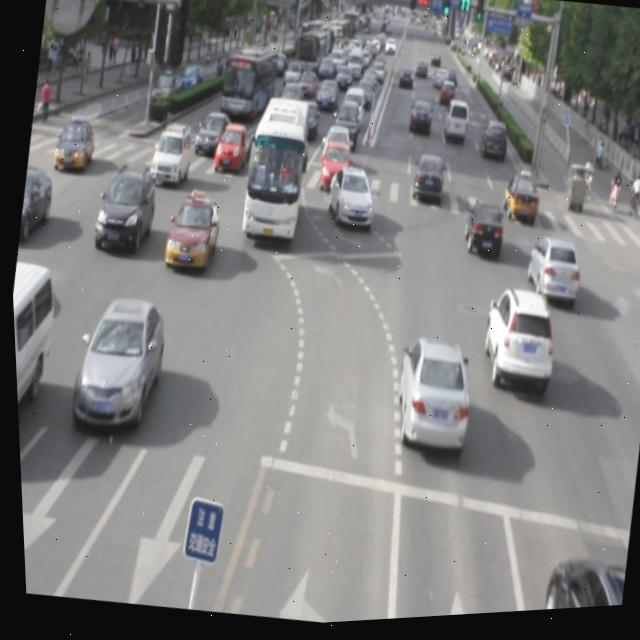car: (62, 290, 170, 436), (385, 338, 475, 464), (471, 288, 559, 402), (87, 161, 160, 260), (159, 192, 221, 277), (532, 558, 622, 616), (518, 239, 580, 312), (320, 172, 375, 240), (145, 121, 194, 193), (456, 200, 505, 268), (496, 175, 538, 229)
truck: (9, 258, 62, 449)
van: (233, 95, 316, 247)
